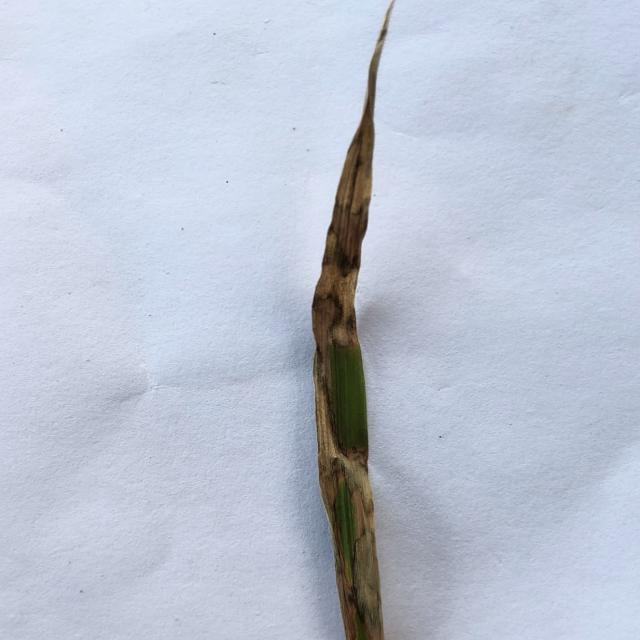leaf blight: (307, 354, 390, 640), (315, 115, 373, 352)
